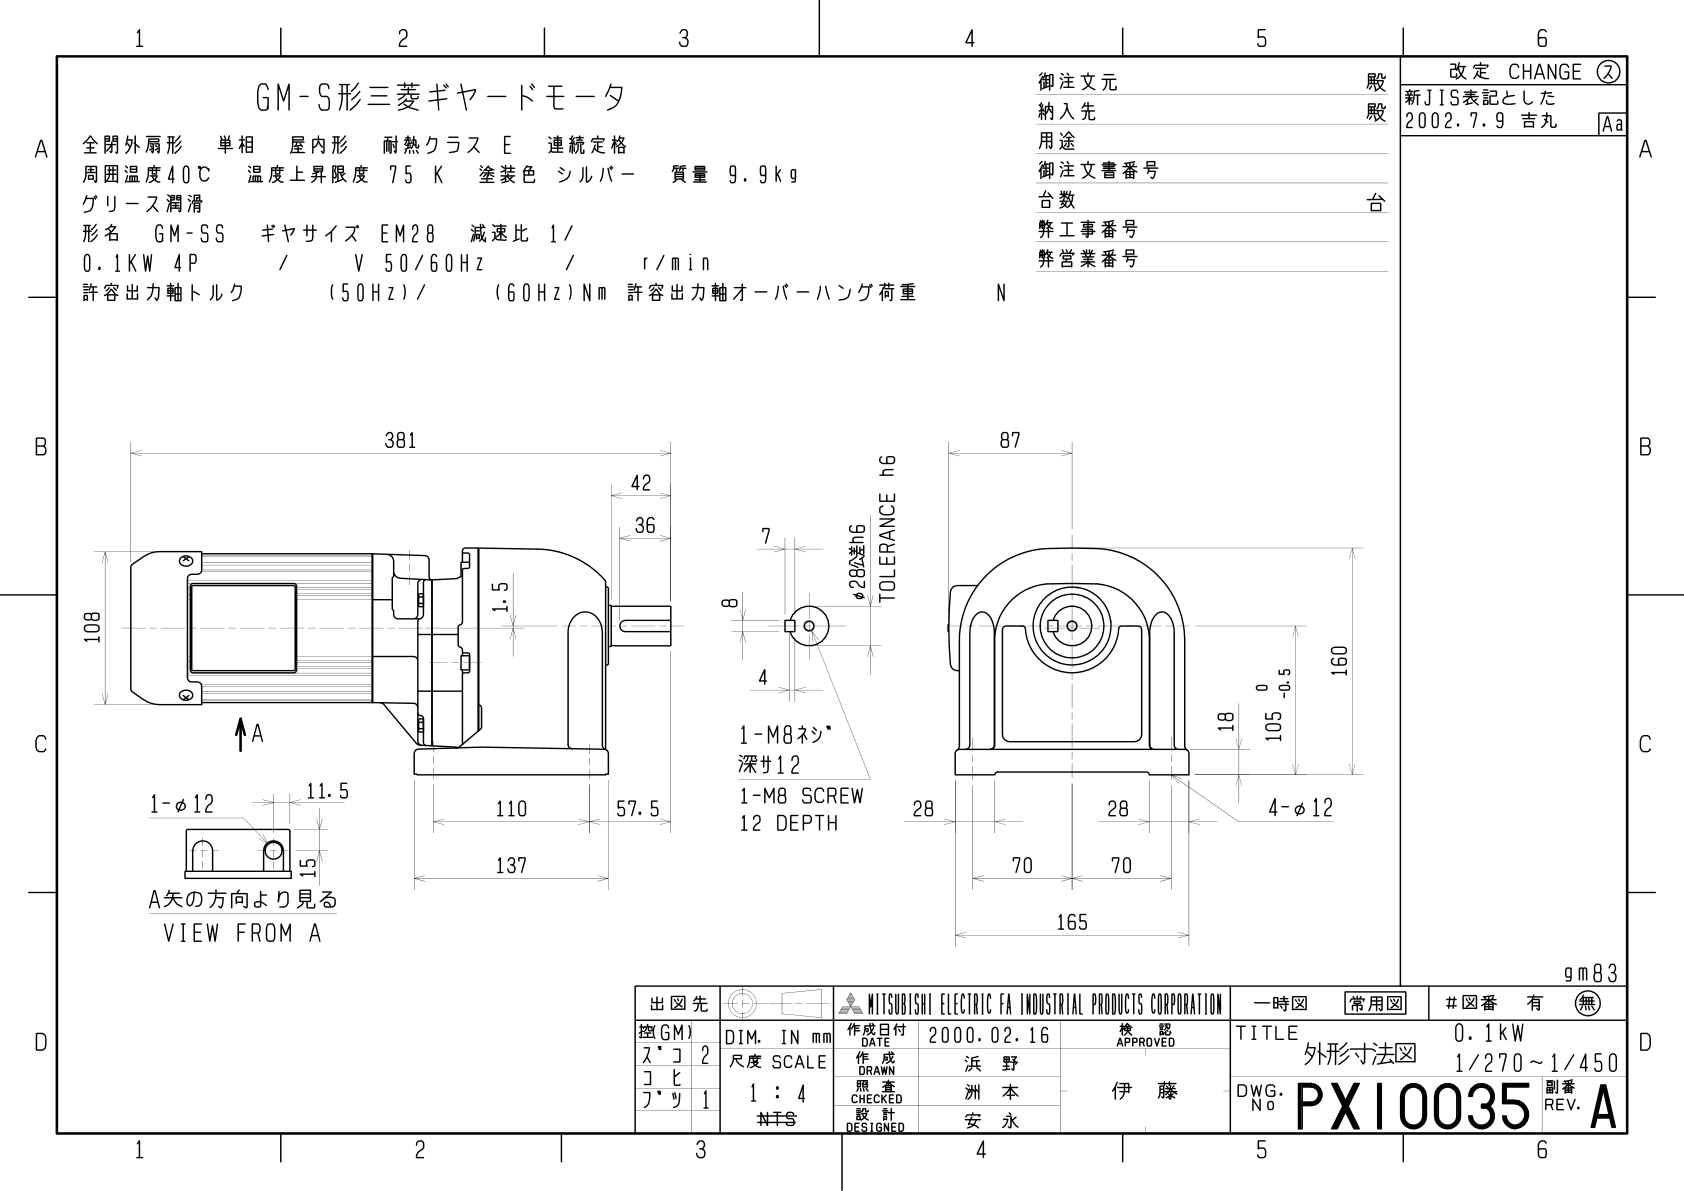GM_S_屋内＿三相_脚: (77, 402, 1385, 963)
